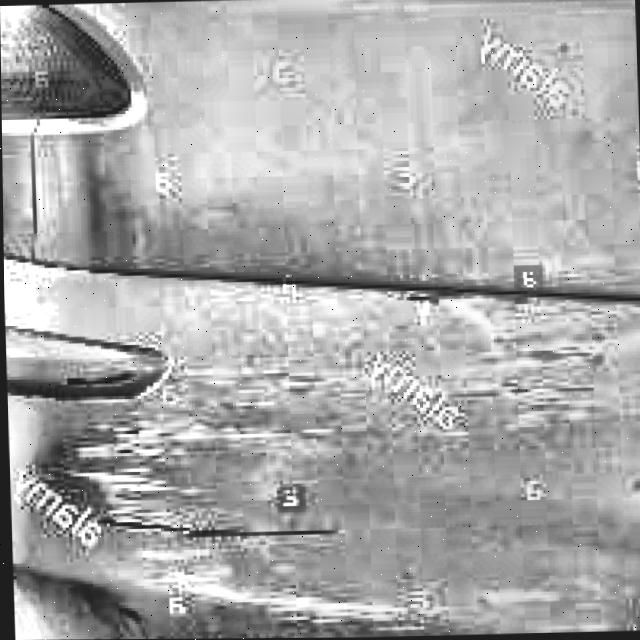bumper_scratch: (92, 501, 340, 563)
